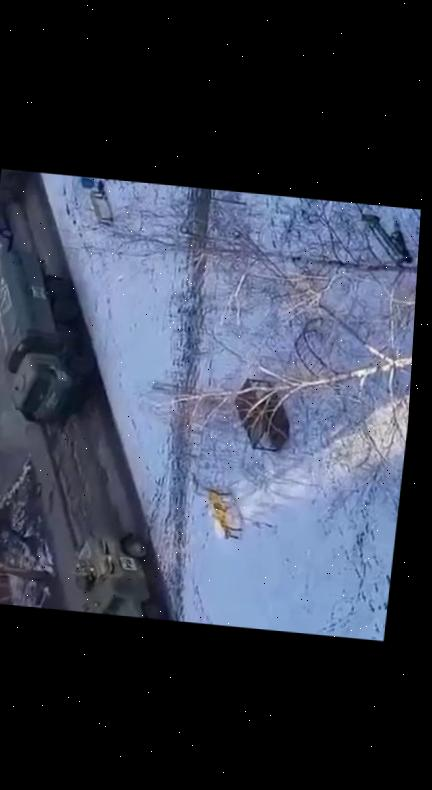armored_car: (63, 523, 175, 620)
car: (0, 198, 16, 268)
truck: (0, 245, 108, 432)
